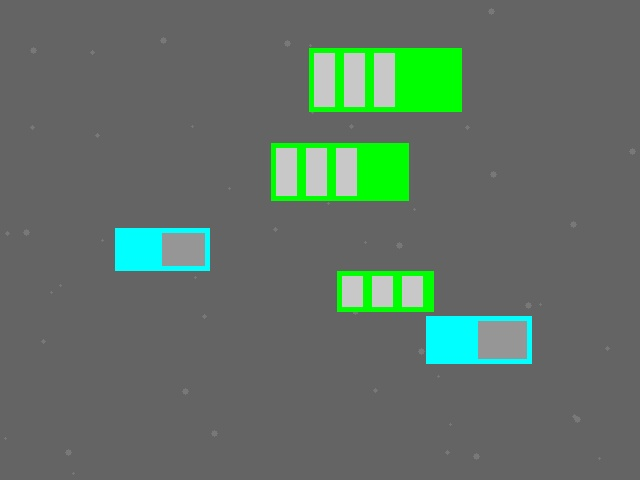bus: (309, 48, 461, 111), (271, 143, 408, 200), (337, 271, 433, 311)
truck: (426, 316, 531, 363), (115, 228, 209, 270)
